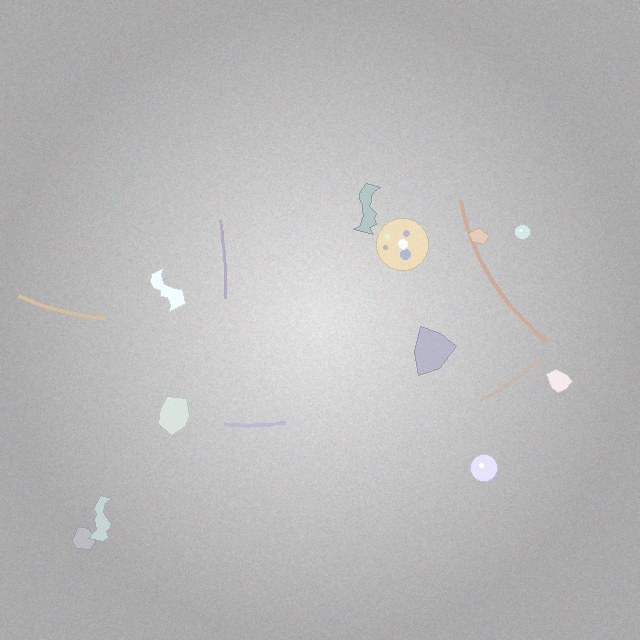fiber: (456, 196, 552, 345), (478, 355, 544, 403), (14, 291, 110, 322), (101, 164, 141, 220), (218, 217, 229, 301), (221, 419, 290, 430)
film: (150, 268, 185, 313), (354, 184, 380, 234), (89, 496, 112, 541)
foam: (376, 219, 428, 271)
fragment: (415, 326, 456, 375), (159, 396, 189, 436), (546, 369, 573, 393), (72, 527, 96, 550), (469, 229, 490, 244)
pellet: (471, 455, 498, 481), (515, 224, 531, 240)
